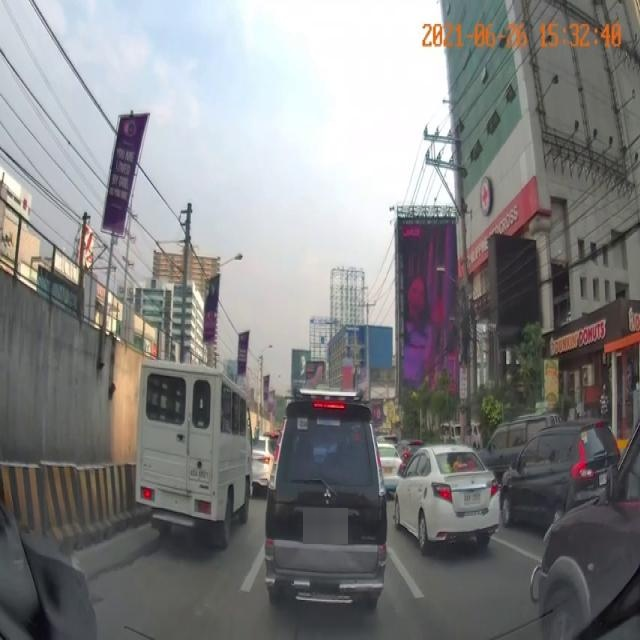car: (259, 390, 393, 618), (135, 348, 257, 554), (504, 417, 616, 539), (403, 444, 504, 556)
